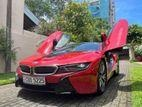car: (11, 23, 132, 92)
